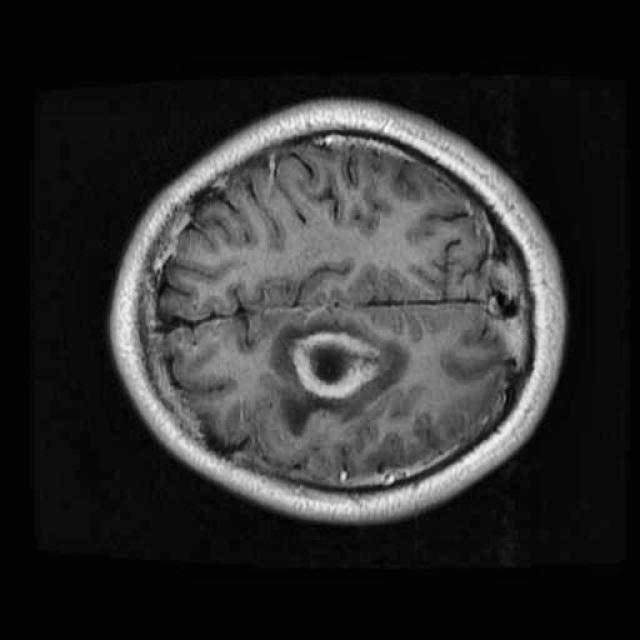Tumor: (277, 321, 408, 412)
